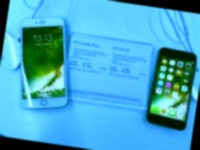iphone: (14, 23, 72, 120), (152, 38, 194, 118)
